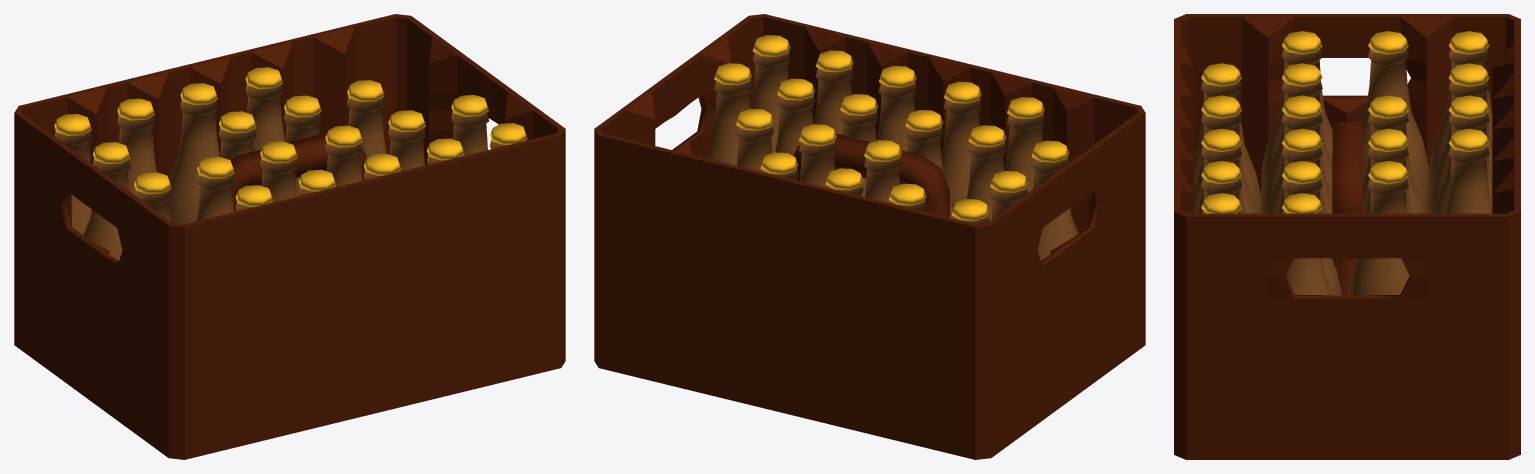
Rendered from BeerCrate_Empty-ish.fbx.
3 views of the same model, side by side, from view 1: azimuth 30°, elevation 25°; view 2: azimuth 150°, elevation 25°; view 3: azimuth 270°, elevation 25° (orthographic). The views are drawn at different scales.
Visible parts, largest first — view 1: Cube.398; view 2: Cube.398; view 3: Cube.398.
Part boxes in pixels (<box>): Cube.398: <box>14,14,565,459</box>; Cube.398: <box>594,14,1145,459</box>; Cube.398: <box>1174,14,1520,459</box>.
Bounding box in the file's own units: 200 × 112 × 145.
